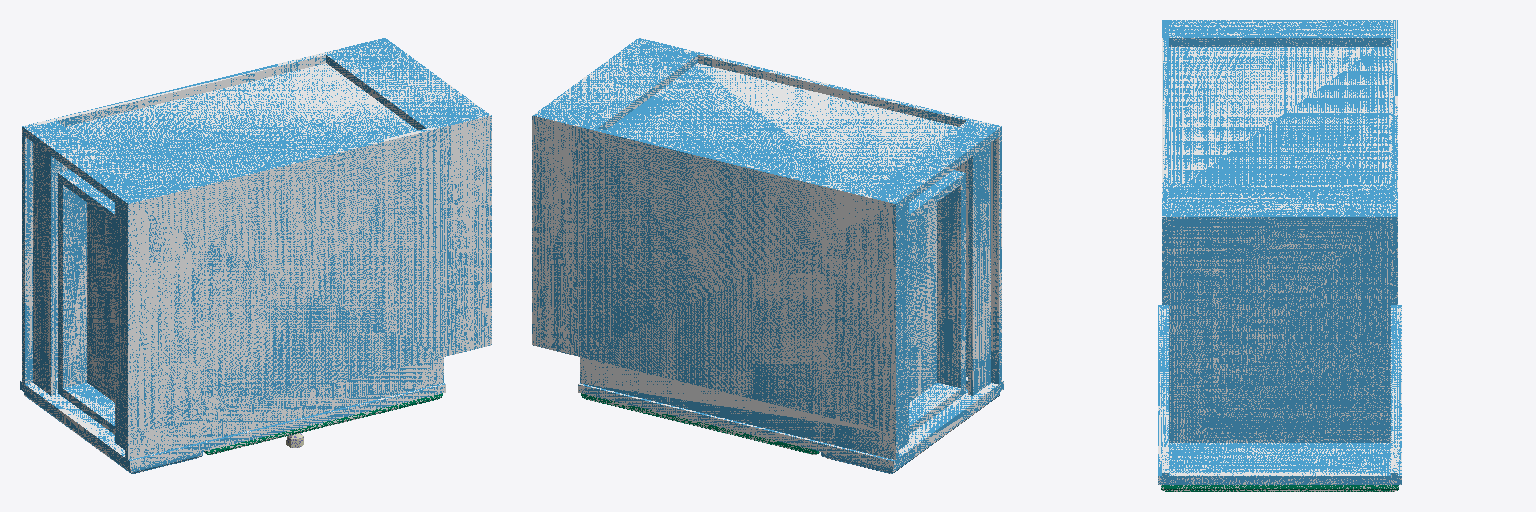
URDF robot description (right-pull-door):
<robot name="right-pull-door">
	<link name="base" />
	<link name="link_0">
		<visual name="out-frame">
			<origin xyz="0 0 0" />
			<geometry>
				<mesh filename="texture_dae/frame.dae" scale="0.8 0.8 0.8" />
			</geometry>
		</visual>
		<collision>
			<origin xyz="0 0 0" />
			<geometry>
				<mesh filename="texture_dae/frame.dae" scale="0.8 0.8 0.8" />
			</geometry>
		</collision>
	</link>
	<joint name="joint_0" type="fixed">
		<origin rpy="1.570796326794897 0 -1.570796326794897" xyz="0 0 0" />
		<child link="link_0" />
		<parent link="base" />
	</joint>
	<link name="link_1">
		<visual name="surf-board">
			<origin xyz="0.5756021499633789 -0.3271514650786183 0" />
			<geometry>
				<mesh filename="texture_dae/board.dae" scale="0.8 0.8 0.8" />
			</geometry>
		</visual>
		<collision>
			<origin xyz="0.5756021499633789 -0.3271514650786183 0" />
			<geometry>
				<mesh filename="texture_dae/board.dae" scale="0.8 0.8 0.8" />
			</geometry>
		</collision>
	</link>
	<joint name="joint_1" type="revolute">
		<origin xyz="-0.5756021499633789 0.3271514650786183 0" />
		<axis xyz="0 -1 0" />
		<child link="link_1" />
		<parent link="link_0" />
		<limit lower="0" upper="1.5079644737231006" />
	</joint>
	<link name="link_2">
		<visual name="handle">
			<origin xyz="0 0 0" />
			<geometry>
				<mesh filename="texture_dae/9962014.dae" scale="1.0359617858498098 1.0359617858498098 1.0359617858498098" />
			</geometry>
		</visual>
		<collision>
			<origin xyz="0 0 0" />
			<geometry>
				<mesh filename="texture_dae/9962014.dae" scale="1.0359617858498098 1.0359617858498098 1.0359617858498098" />
			</geometry>
		</collision>
	</link>
	<joint name="joint_2" type="revolute">
		<origin xyz="0.5756021499633789 -0.3271514650786183 0.013056336269543679" />
		<child link="link_2" />
		<parent link="link_1" />
		<axis xyz="0 0 1" />
		<limit lower="0" upper="0" />
	</joint>
</robot>

--- What the picture shows (computed from the rendered views, not written in the file) ---
Views: 3 orthographic renders of the robot side by side, from view 1: azimuth 30°, elevation 25°; view 2: azimuth 150°, elevation 25°; view 3: azimuth 270°, elevation 25°.
Model right-pull-door with 4 links and 3 joints (2 revolute, 1 fixed), rooted at base, posed every joint at zero.
Links seen in each view (by area): view 1: link_0, link_1; view 2: link_0, link_1; view 3: link_0, link_1.
Boxes of the visible links, x1,y1,x2,y2 form: link_0: (20,38,491,473); link_1: (204,393,442,454); link_0: (532,38,1003,473); link_1: (581,393,819,454); link_0: (1158,20,1401,484); link_1: (1161,485,1398,491).
Bounding box of the posed robot: 1.2 × 0.627 × 0.9111 m (x, y, z).
Meshes: 3 distinct files referenced, 3 mesh visuals loaded (3 Collada DAE).
